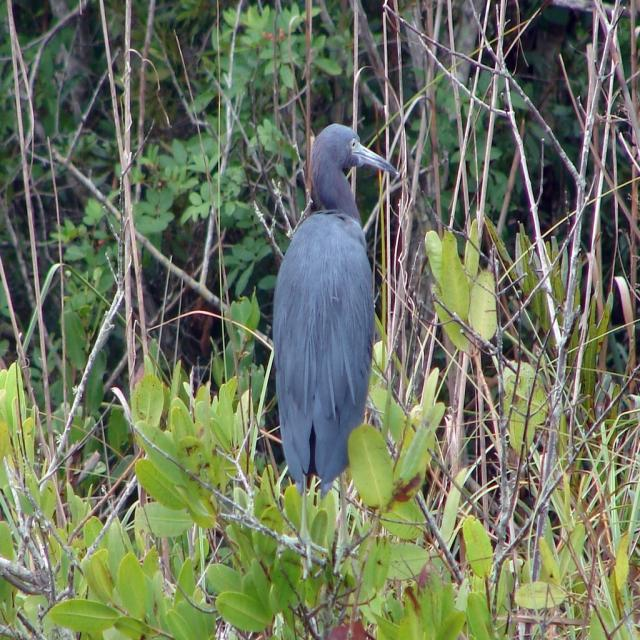bird: (267, 120, 400, 497)
